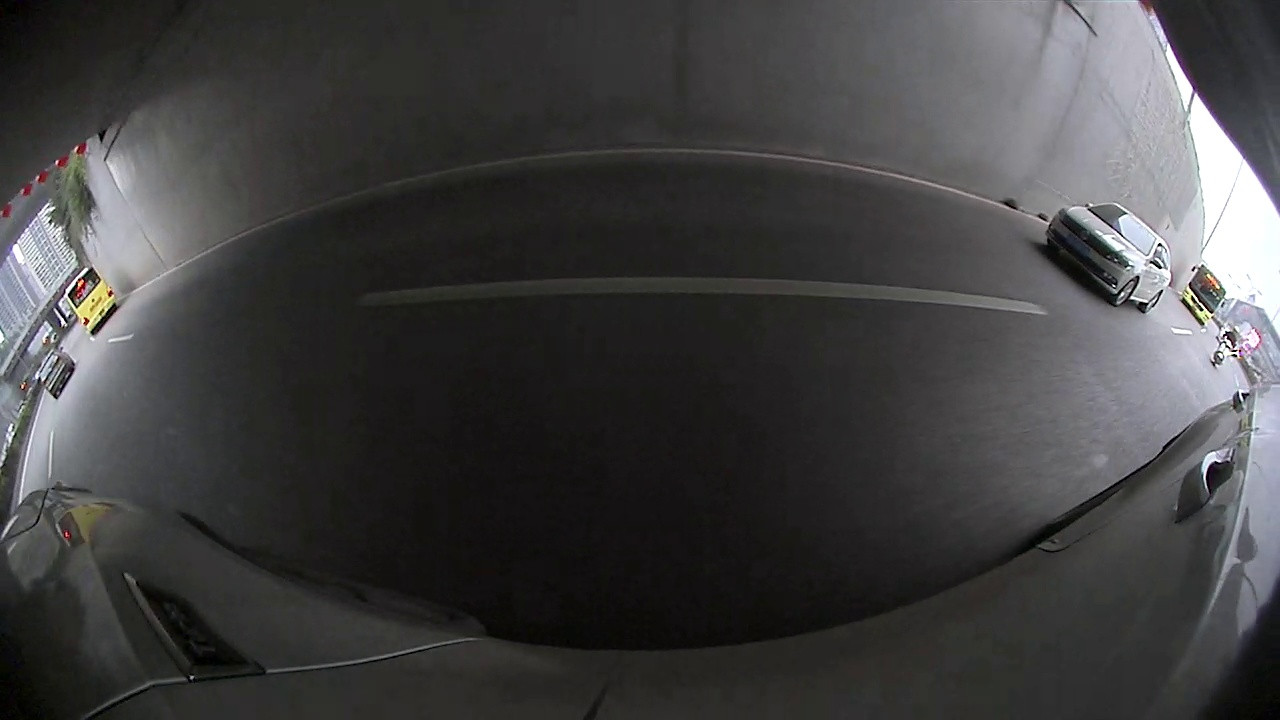bus: (63, 262, 119, 337), (1182, 260, 1223, 329)
car: (1046, 202, 1170, 316), (34, 350, 77, 398)
front: (1110, 275, 1143, 310), (1042, 237, 1061, 261)
rear: (1133, 291, 1163, 320)
rider: (1209, 329, 1242, 365)
